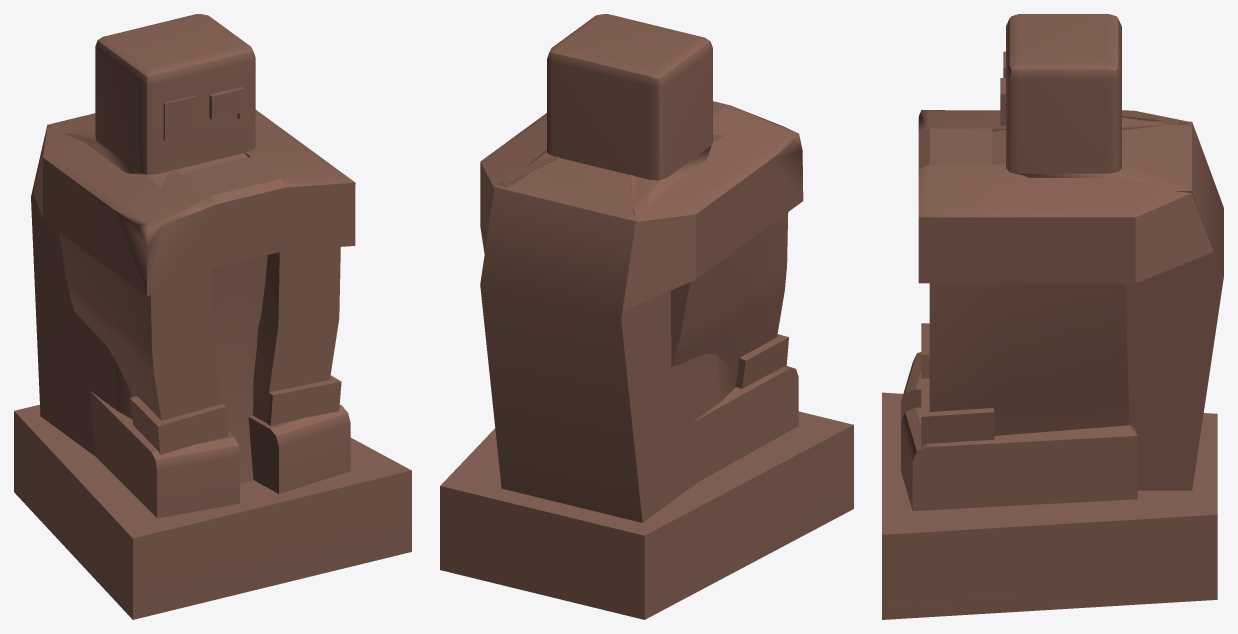
File: Idele_Earthe.fbx
3 views of the same model, side by side, from view 1: azimuth 30°, elevation 25°; view 2: azimuth 150°, elevation 25°; view 3: azimuth 270°, elevation 25° (orthographic). The views are drawn at different scales.
Parts seen in each view (by area): view 1: Idele_Earthe; view 2: Idele_Earthe; view 3: Idele_Earthe.
Boxes of the visible parts, box(x1,y1,x2,y2) form: Idele_Earthe: box(14, 14, 411, 619); Idele_Earthe: box(440, 14, 853, 619); Idele_Earthe: box(882, 14, 1223, 619).
Bounding box in the file's own units: 0.2444 × 0.4048 × 0.248.
Materials: 1 (1 with a texture image).
